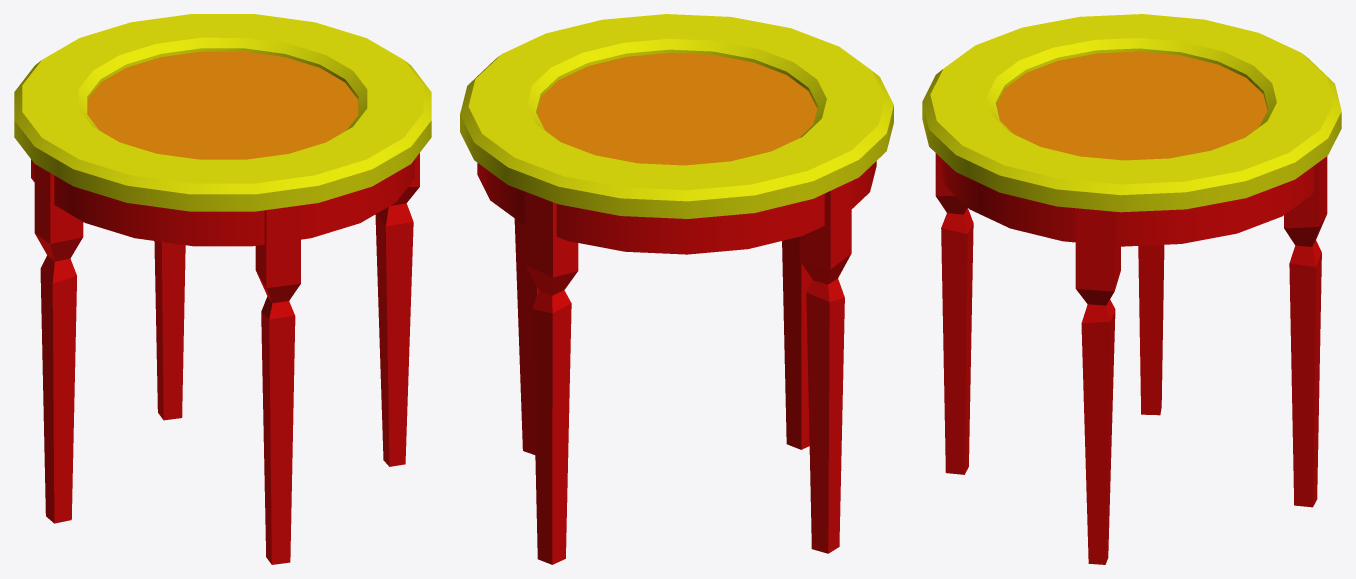
File: LR_CoffeeTable_3.fbx
3 renders of one model, left to right at view 1: azimuth 30°, elevation 25°; view 2: azimuth 150°, elevation 25°; view 3: azimuth 270°, elevation 25°, orthographic. The views are drawn at different scales.
Visible parts, largest first — view 1: LR_CoffeeTable_3; view 2: LR_CoffeeTable_3; view 3: LR_CoffeeTable_3.
Boxes of the visible parts, box(x1,y1,x2,y2) form: LR_CoffeeTable_3: box(14, 14, 431, 564); LR_CoffeeTable_3: box(460, 14, 893, 564); LR_CoffeeTable_3: box(922, 14, 1341, 564).
Size of the model in its own units: 117 by 119 by 117.
